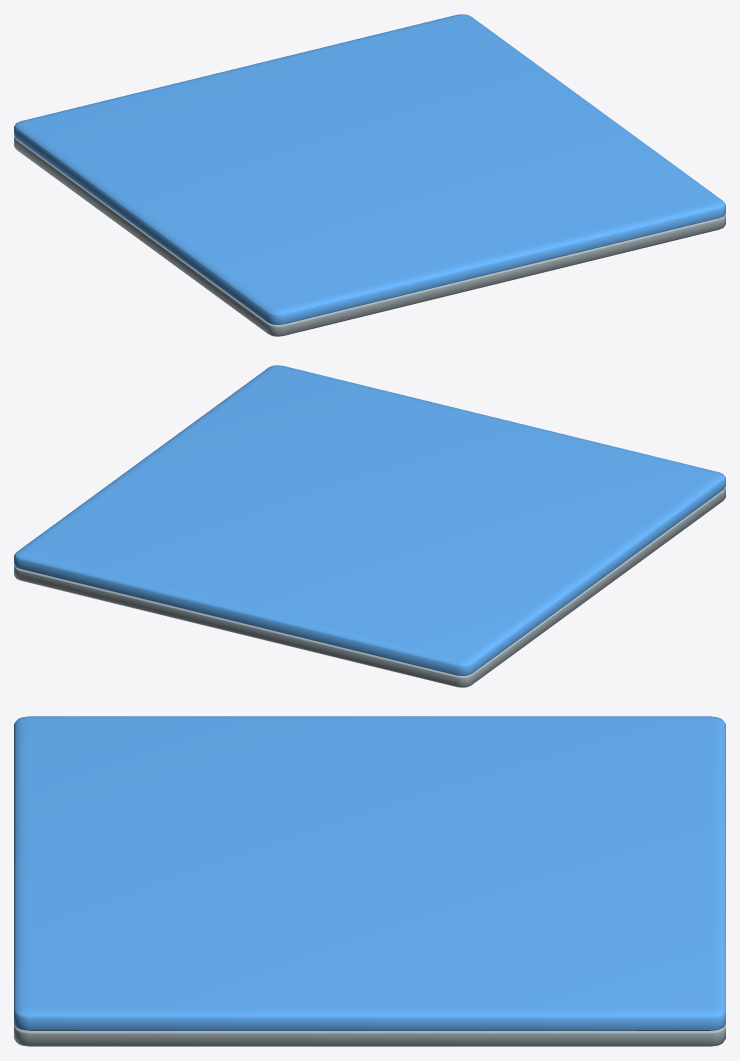
Rendered from testLevel.gltf.
The picture shows the model from 3 angles, top to bottom: view 1: azimuth 30°, elevation 25°; view 2: azimuth 150°, elevation 25°; view 3: azimuth 270°, elevation 25°; orthographic projection. The views are drawn at different scales.
Parts seen in each view (by area): view 1: tileLarge_teamBlue; view 2: tileLarge_teamBlue; view 3: tileLarge_teamBlue.
Part boxes in pixels (<box>): tileLarge_teamBlue: <box>14,14,725,336</box>; tileLarge_teamBlue: <box>14,365,725,687</box>; tileLarge_teamBlue: <box>14,716,725,1046</box>.
Bounding box in the file's own units: 18 × 1 × 18.
